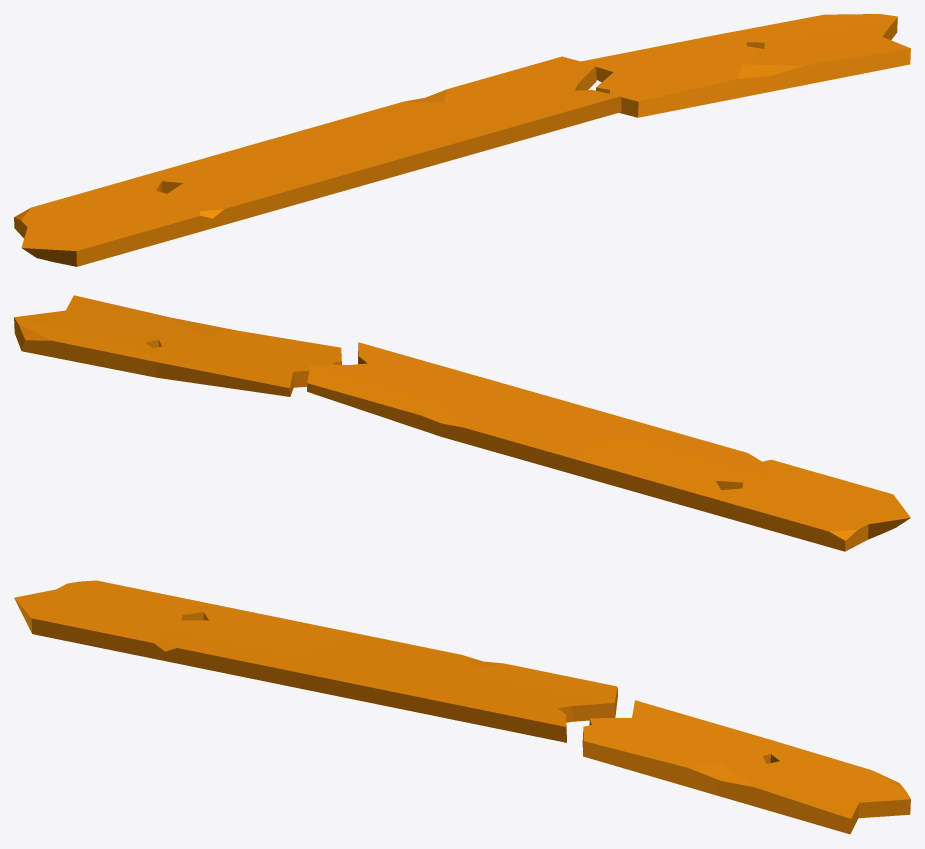
The model's file is Rotten and broken wood_5.fbx.
The picture shows the model from 3 angles, top to bottom: view 1: azimuth 30°, elevation 25°; view 2: azimuth 150°, elevation 25°; view 3: azimuth 330°, elevation 25°; orthographic projection.
Visible parts, largest first — view 1: Cube.068, Cube.064; view 2: Cube.068, Cube.064; view 3: Cube.068, Cube.064.
Boxes of the visible parts, bbox=[...] form: Cube.068: bbox=[14, 56, 621, 266]; Cube.064: bbox=[581, 14, 910, 117]; Cube.068: bbox=[307, 342, 910, 551]; Cube.064: bbox=[14, 295, 341, 396]; Cube.068: bbox=[14, 580, 617, 742]; Cube.064: bbox=[582, 700, 910, 834].
Size of the model in its own units: 121 by 5.24 by 13.07.
